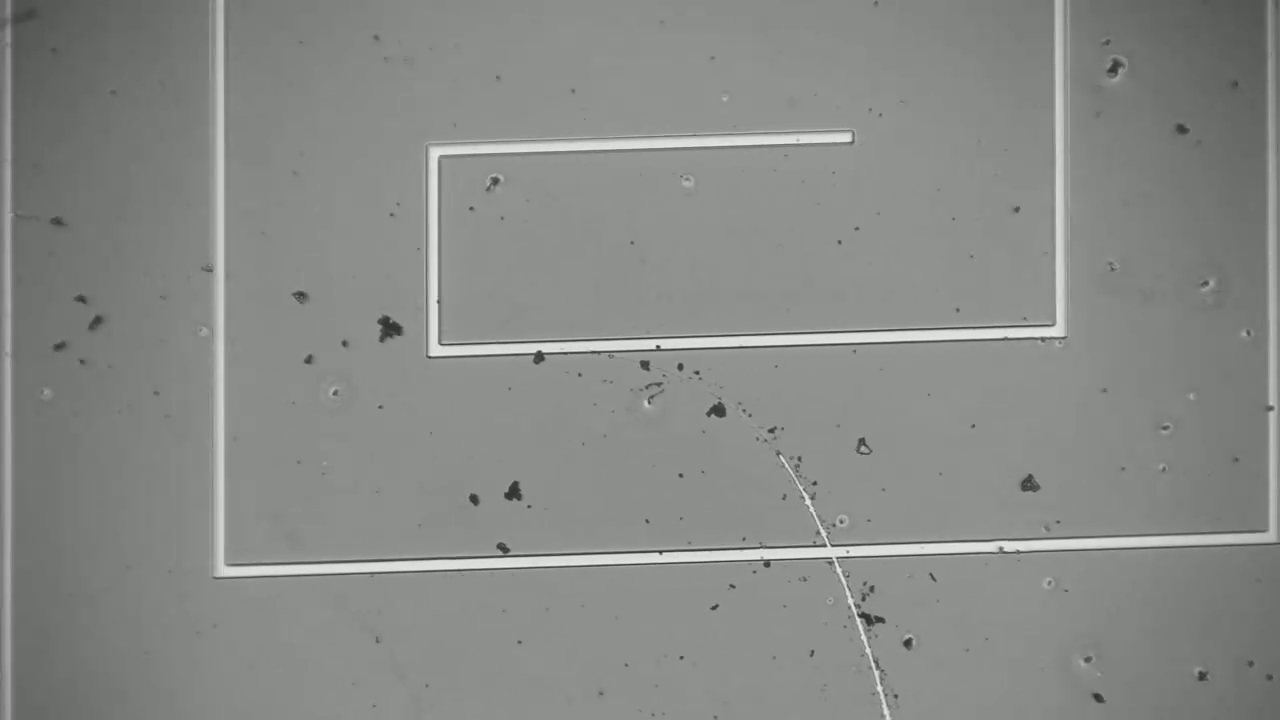scratch: (778, 451, 901, 720)
stains_enbedded: (1264, 397, 1280, 418)
